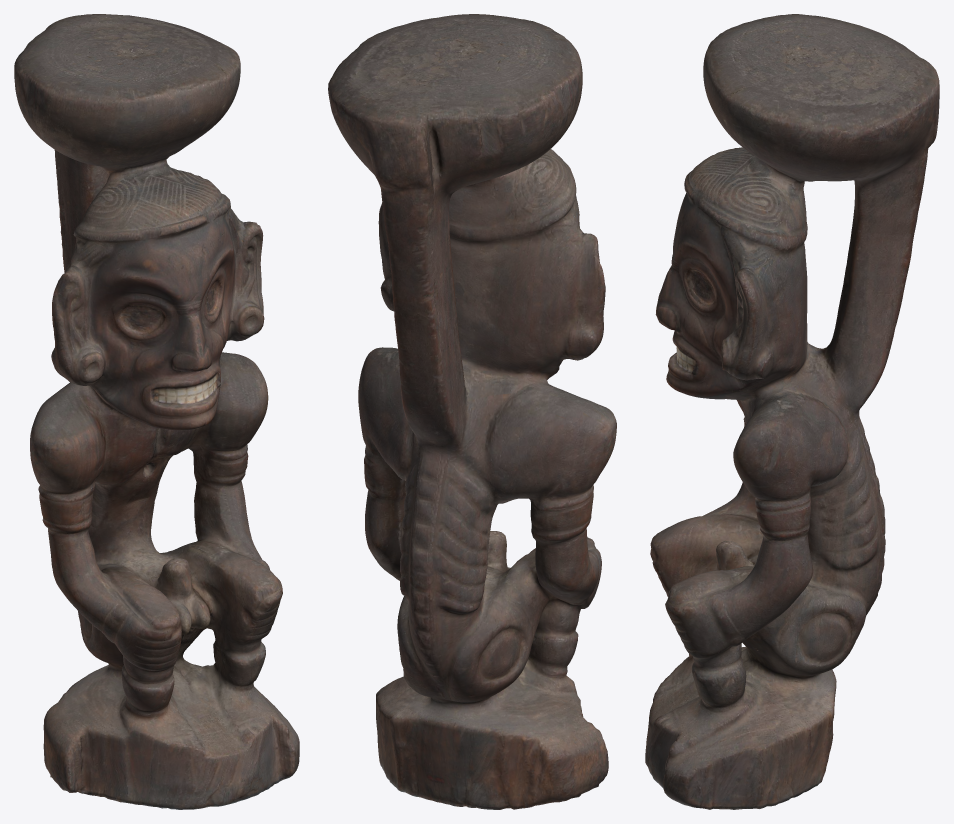
File: wood_deity.glb
3 renders of one model, left to right at view 1: azimuth 30°, elevation 25°; view 2: azimuth 150°, elevation 25°; view 3: azimuth 270°, elevation 25°, orthographic. The views are drawn at different scales.
Visible parts, largest first — view 1: PG_1979_206_380_AAOA_WoodDeity_LP2; view 2: PG_1979_206_380_AAOA_WoodDeity_LP2; view 3: PG_1979_206_380_AAOA_WoodDeity_LP2.
Boxes of the visible parts, <box> form: PG_1979_206_380_AAOA_WoodDeity_LP2: <box>14,14,299,809</box>; PG_1979_206_380_AAOA_WoodDeity_LP2: <box>328,14,616,809</box>; PG_1979_206_380_AAOA_WoodDeity_LP2: <box>645,14,939,809</box>.
Bounding box in the file's own units: 0.225 × 0.6664 × 0.2511.
Materials: 1 (1 with a texture image).
